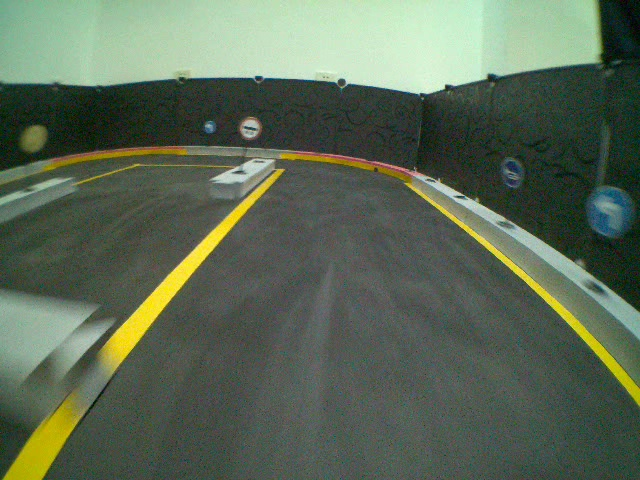Check: (238, 115, 263, 139)
horn: (499, 157, 525, 189)
turn: (583, 183, 638, 241), (202, 120, 218, 134)
